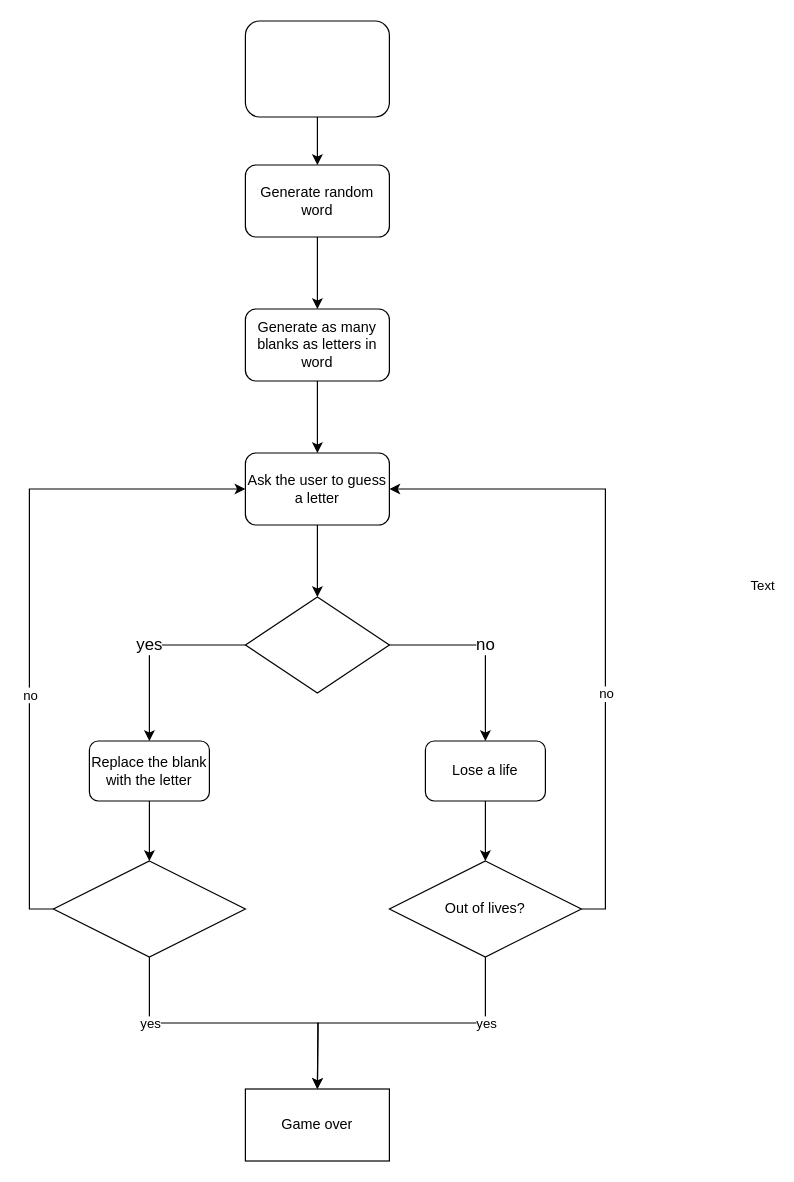
Image size: 794x1182. Some labels were removed from this diagram. Here are the shapes that lost their labels. From the top down, the centre of each, then its label:
At pixel 316 68: "START".
At pixel 316 644: "Is the guessed letter in word?".
At pixel 148 908: "All blanks filled?".
